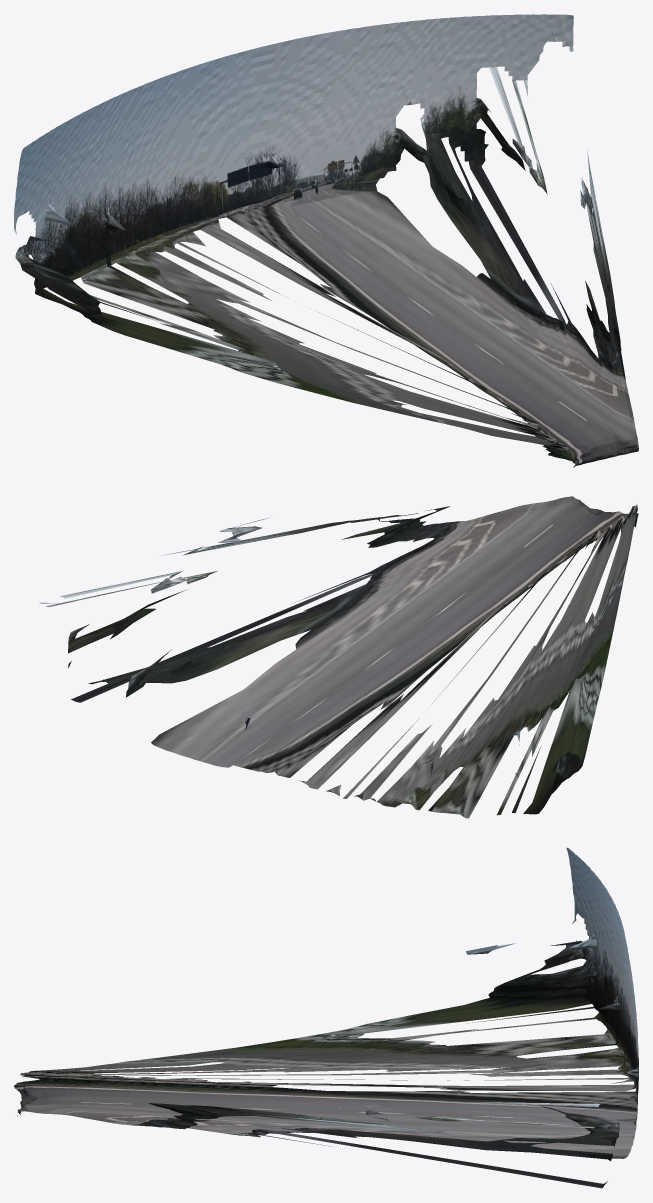
3 views of the same model, one above another, from view 1: azimuth 30°, elevation 25°; view 2: azimuth 150°, elevation 25°; view 3: azimuth 270°, elevation 25° (orthographic). The views are drawn at different scales.
Visible parts, largest first — view 1: defaultobject; view 2: defaultobject; view 3: defaultobject.
Part boxes in pixels (bbox=[...]): defaultobject: bbox=[14, 14, 638, 467]; defaultobject: bbox=[39, 496, 638, 818]; defaultobject: bbox=[14, 847, 638, 1188].
Bounding box in the file's own units: 40.94 × 12.69 × 44.56.
1 material, 1 textured.
